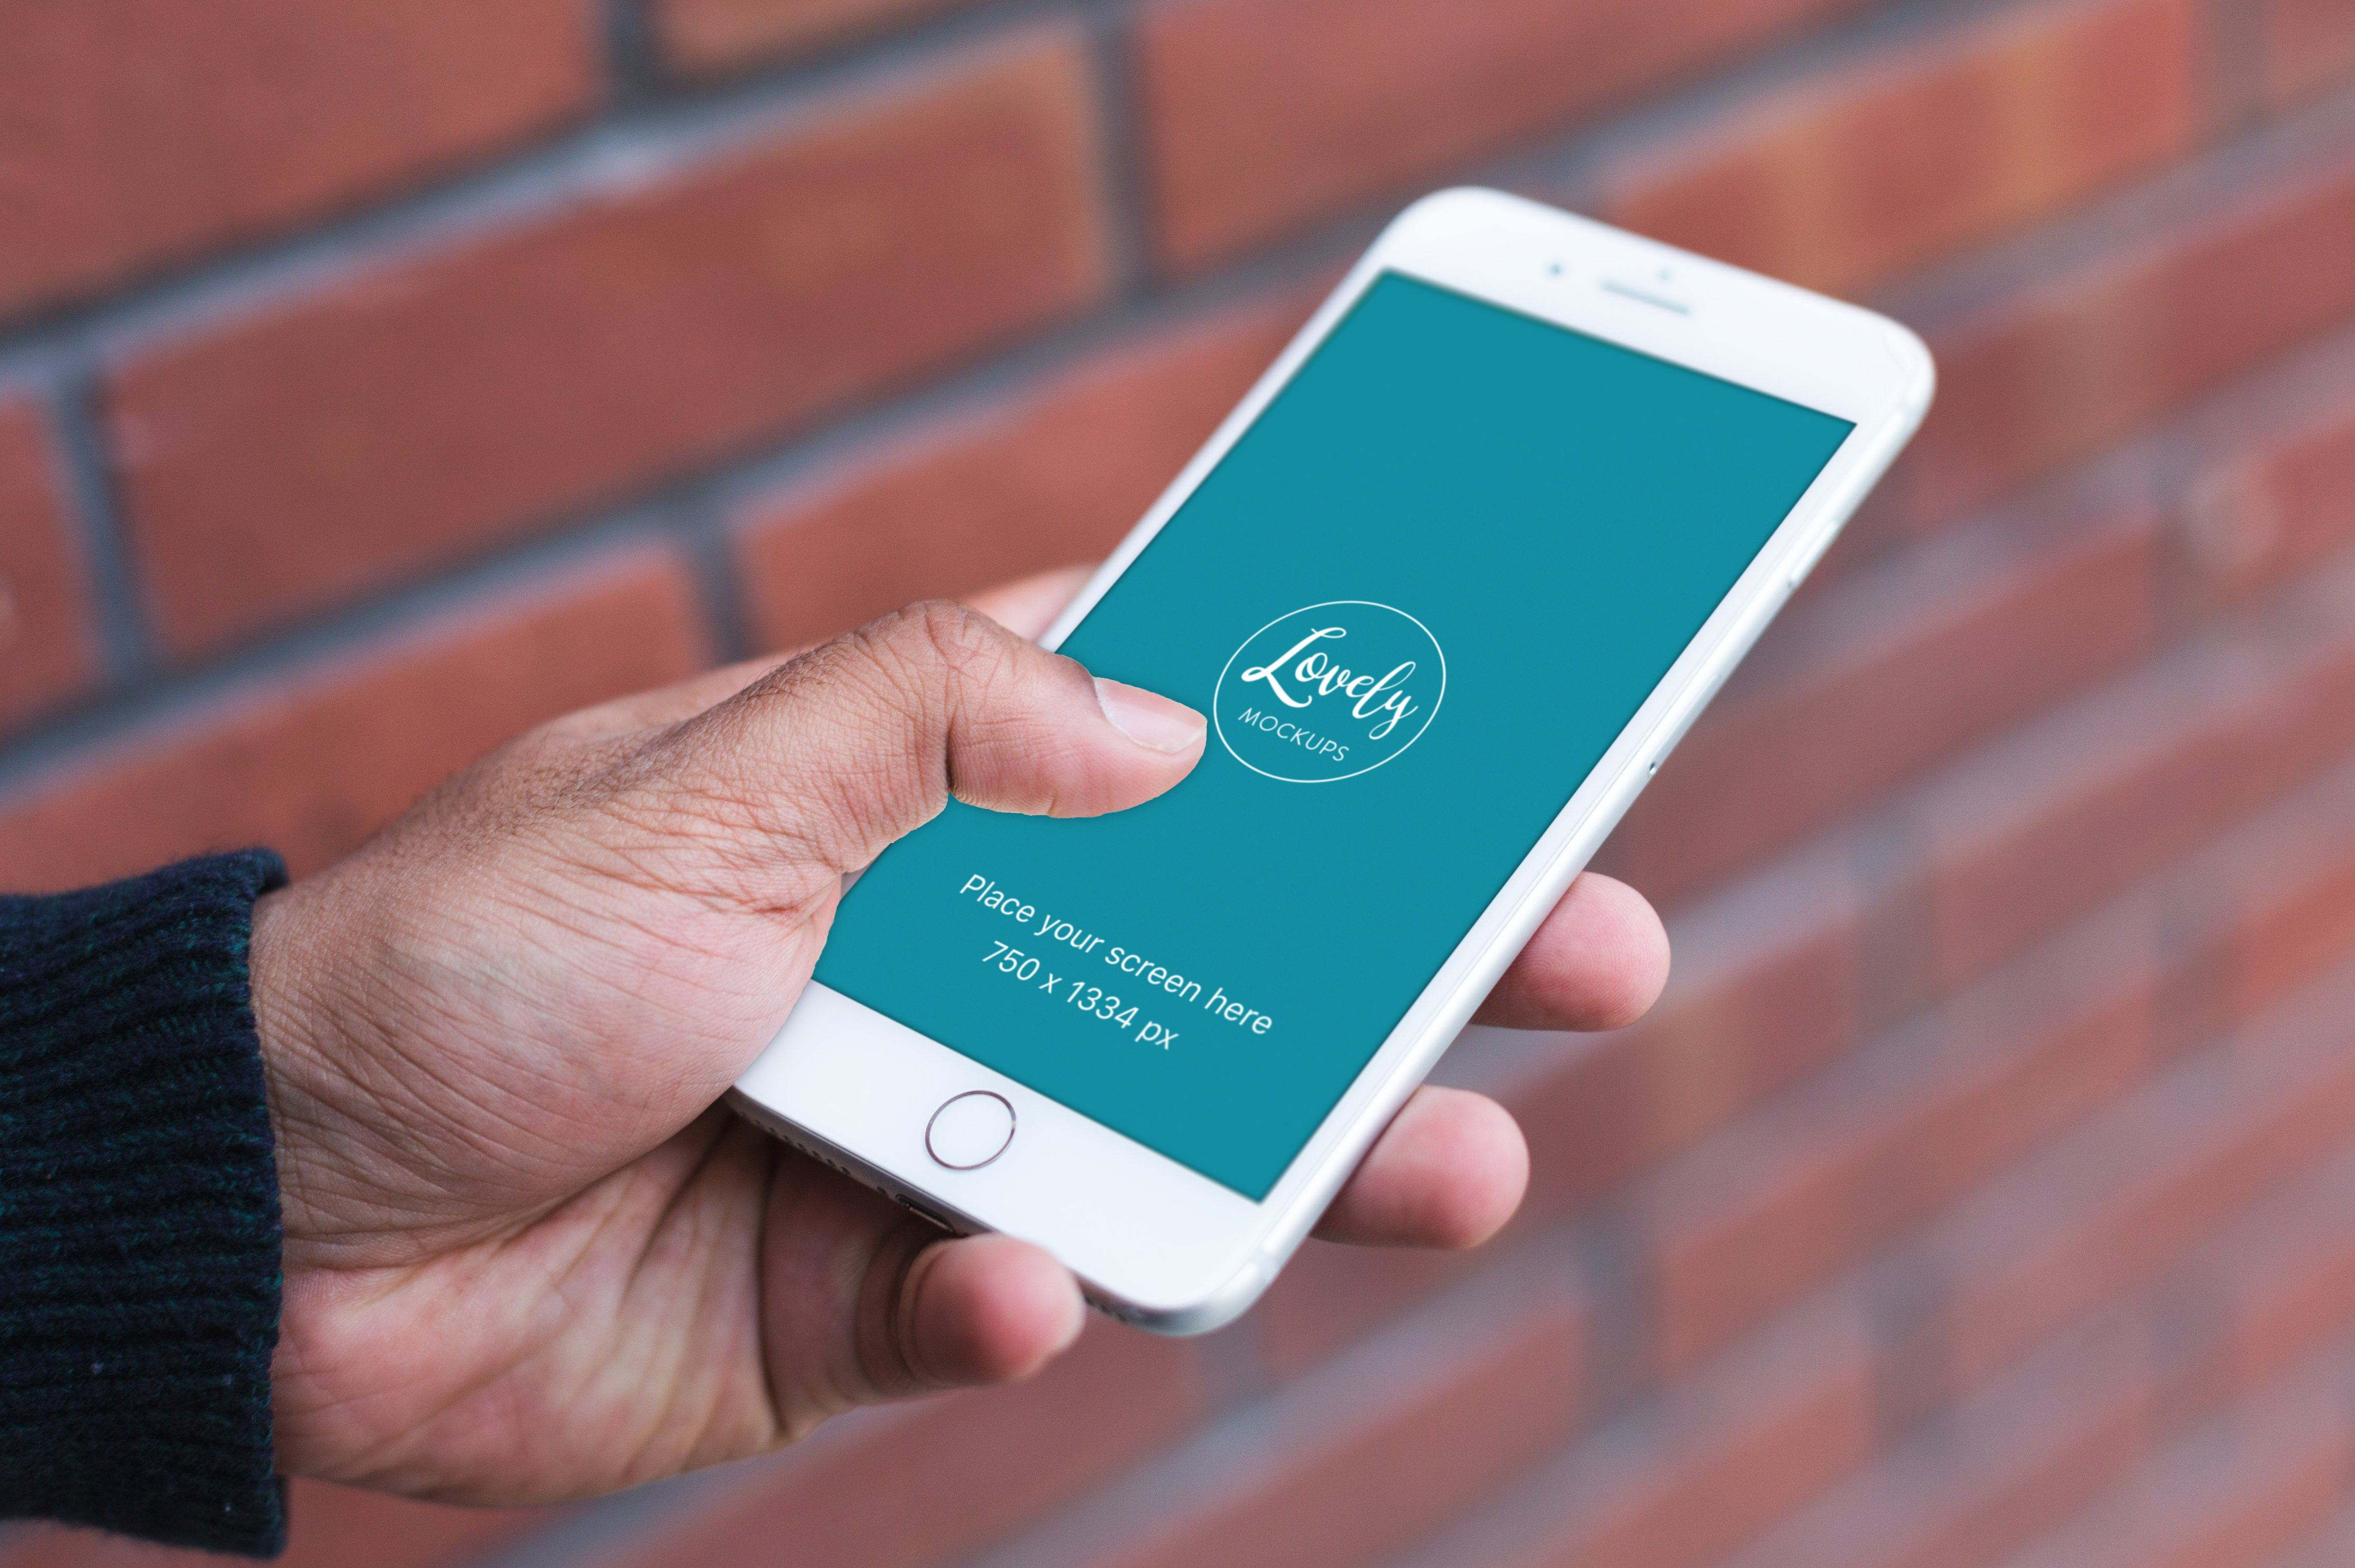phone: (360, 156, 1947, 1501)
